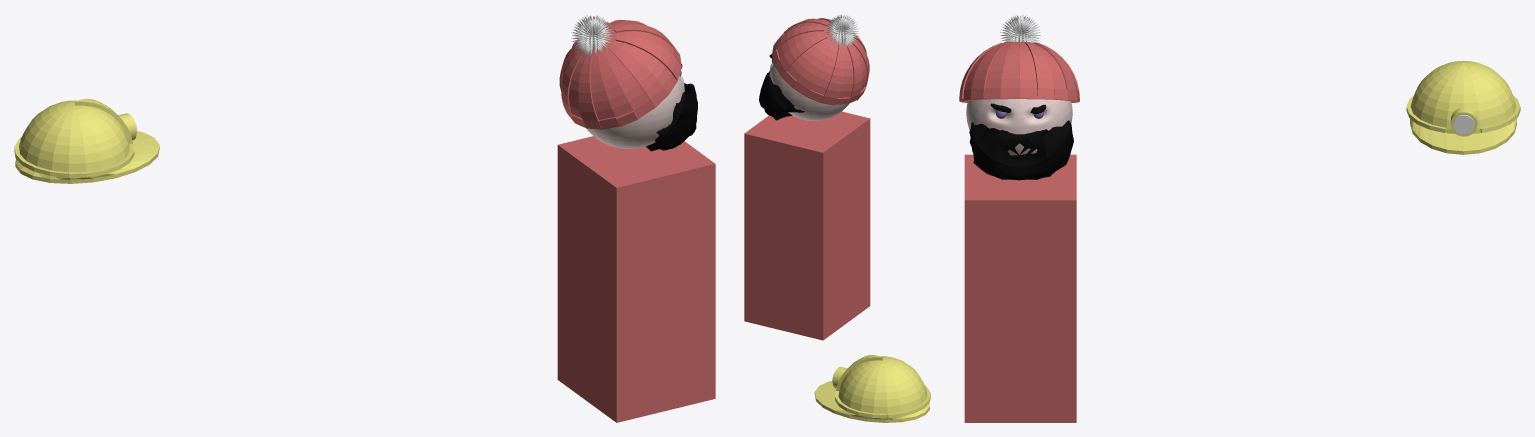
Rendered from MinerHat.fbx.
3 renders of one model, left to right at view 1: azimuth 30°, elevation 25°; view 2: azimuth 150°, elevation 25°; view 3: azimuth 270°, elevation 25°, orthographic. The views are drawn at different scales.
Visible parts, largest first — view 1: pCube1, pSphere5, pSphere7, pSphere2, pTorus1, pSphere6; view 2: pCube1, pSphere5, pSphere7, pSphere2, pTorus1, pSphere6; view 3: pCube1, pSphere7, pSphere5, pTorus1, pSphere2, pSphere6.
Part boxes in pixels (box(x1,y1,x2,y2)): pCube1: box(557, 136, 715, 422); pSphere5: box(559, 19, 681, 129); pSphere7: box(14, 98, 159, 183); pSphere2: box(586, 75, 684, 148); pTorus1: box(646, 83, 697, 151); pSphere6: box(571, 15, 613, 56); pCube1: box(744, 111, 870, 340); pSphere5: box(772, 18, 869, 105); pSphere7: box(814, 355, 930, 422); pSphere2: box(769, 63, 849, 120); pTorus1: box(759, 71, 804, 120); pSphere6: box(824, 14, 859, 47); pCube1: box(964, 154, 1076, 422); pSphere7: box(1406, 60, 1520, 154); pSphere5: box(959, 41, 1079, 102); pTorus1: box(969, 120, 1073, 180); pSphere2: box(966, 99, 1072, 155); pSphere6: box(1000, 15, 1040, 43).
Bounding box in the file's own units: 8.81 × 7.49 × 10.48.
